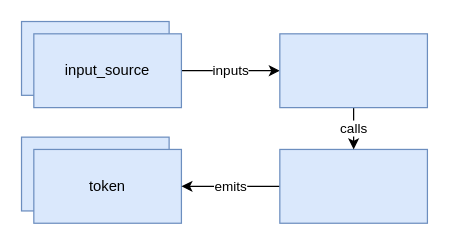
This 449x245 diagram has some shape labels left out. Here are the shapes that lost their labels. From the top down, the box of each, then its label:
(279, 33, 427, 108): lexer
(279, 148, 427, 223): token_factory
